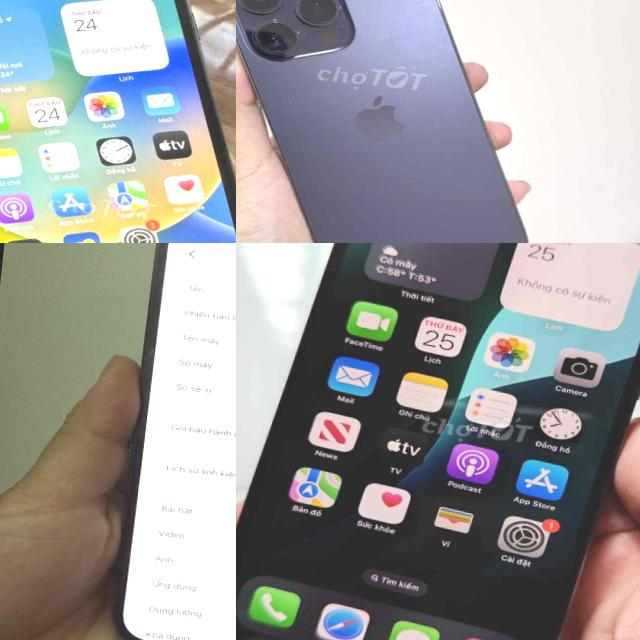gen_12_13: (236, 243, 640, 640), (87, 243, 236, 640)
gen_14: (236, 0, 564, 243)
gen_7_8: (0, 0, 236, 243)
